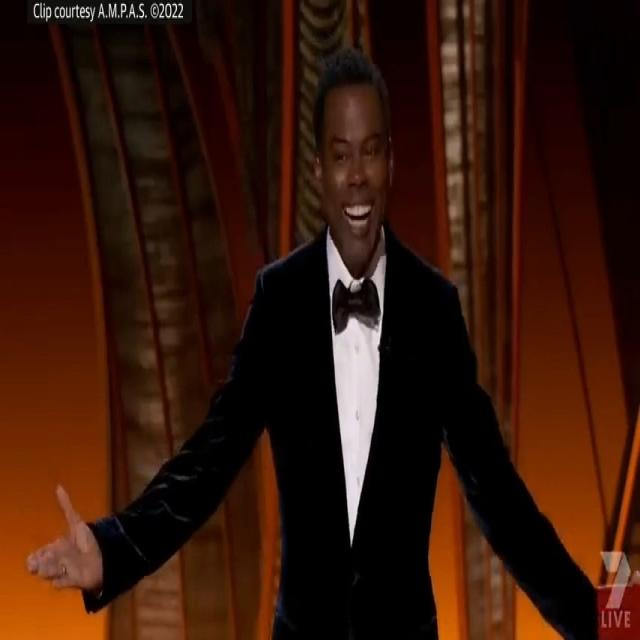non-fight: (24, 43, 608, 640)
